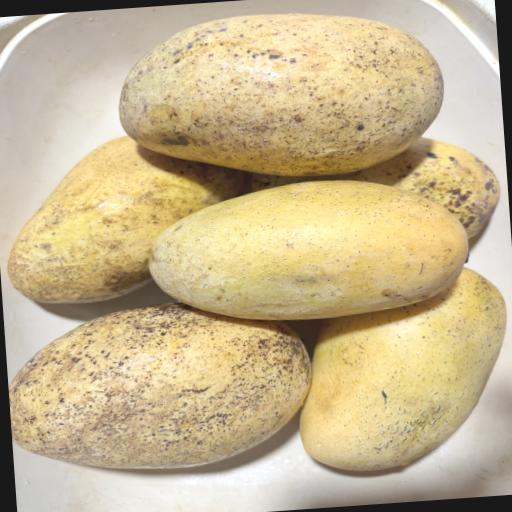fruit: (2, 278, 334, 486), (104, 0, 454, 185), (135, 160, 464, 340), (283, 249, 512, 497), (0, 104, 246, 313), (240, 124, 505, 266)
